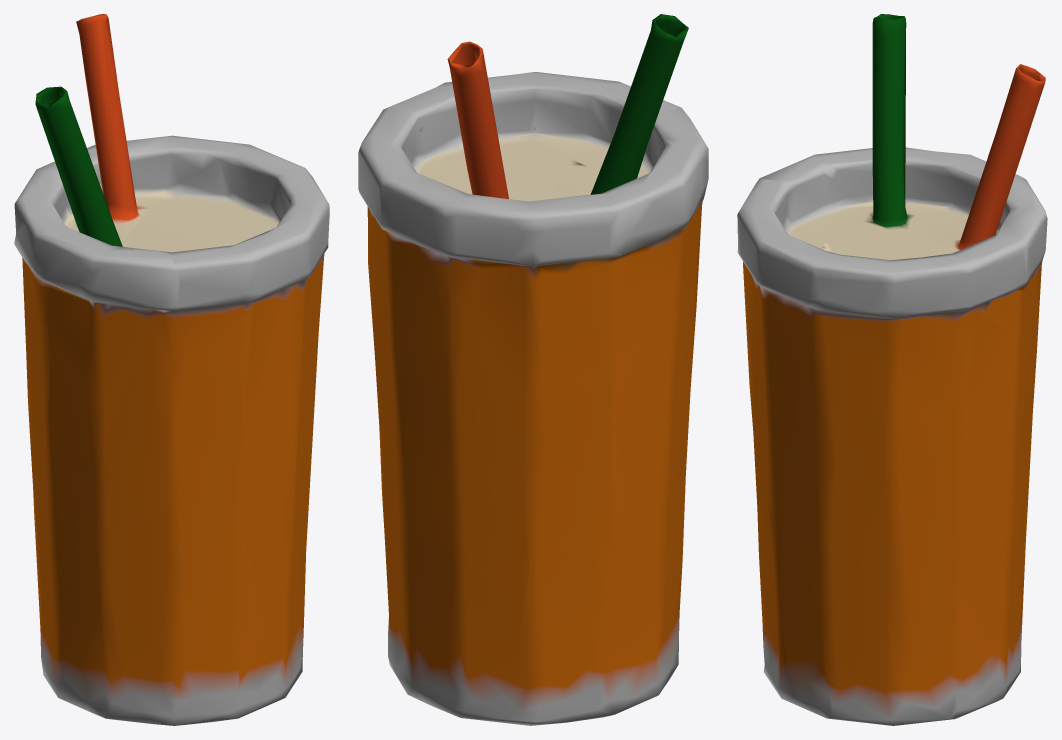
File: gen3d-juice-lod0.glb
3 renders of one model, left to right at view 1: azimuth 30°, elevation 25°; view 2: azimuth 150°, elevation 25°; view 3: azimuth 270°, elevation 25°, orthographic. The views are drawn at different scales.
Parts seen in each view (by area): view 1: part_0; view 2: part_0; view 3: part_0.
Boxes of the visible parts, x1,y1,x2,y2 form: part_0: (14, 14, 329, 725); part_0: (358, 14, 708, 725); part_0: (737, 14, 1047, 725).
Size of the model in its own units: 0.4672 by 0.9996 by 0.4674.
